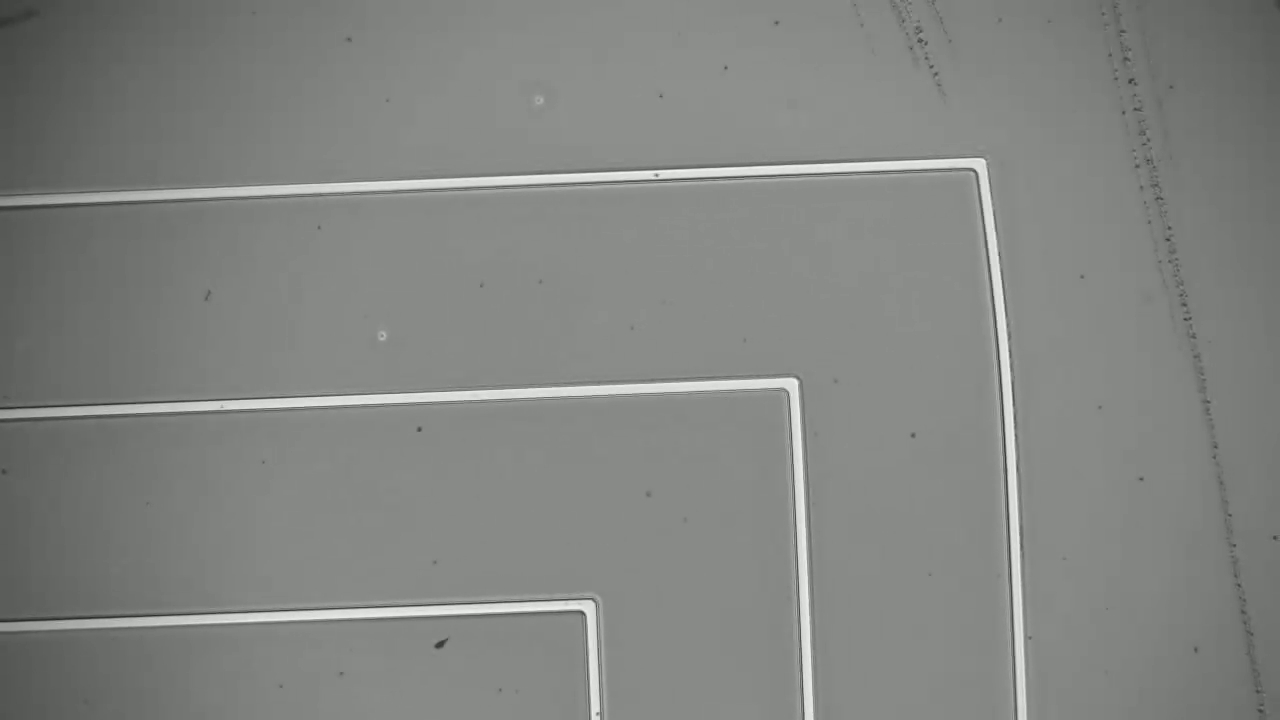scratch: (1117, 11, 1275, 716), (840, 1, 975, 111)
